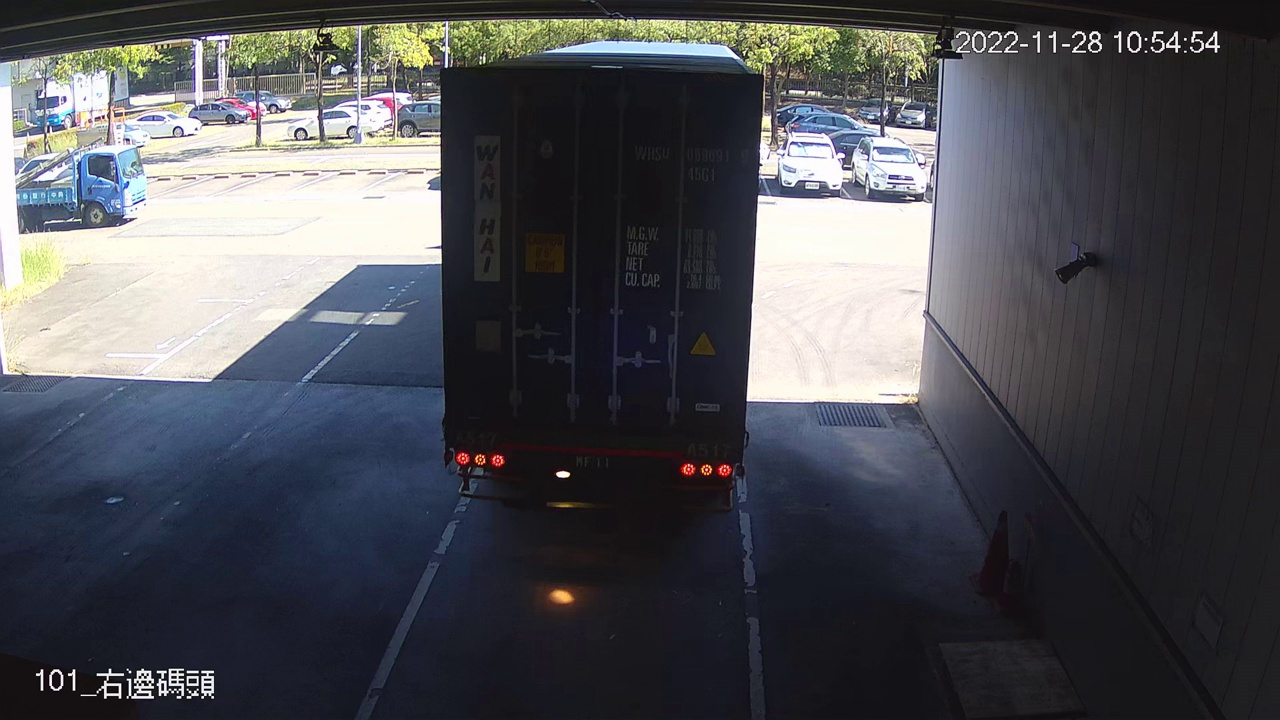container: (629, 137, 754, 189)
